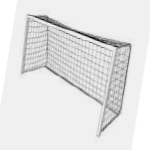goals: (18, 12, 132, 138)
